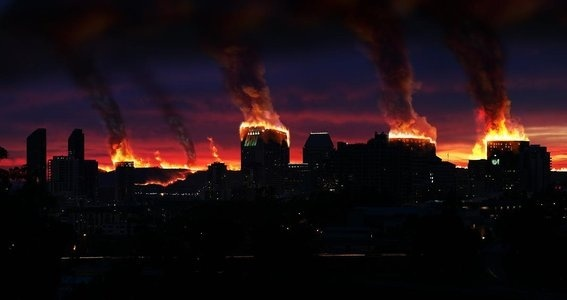fire: (103, 138, 241, 174), (461, 109, 525, 157), (238, 108, 290, 144), (388, 118, 435, 149)
